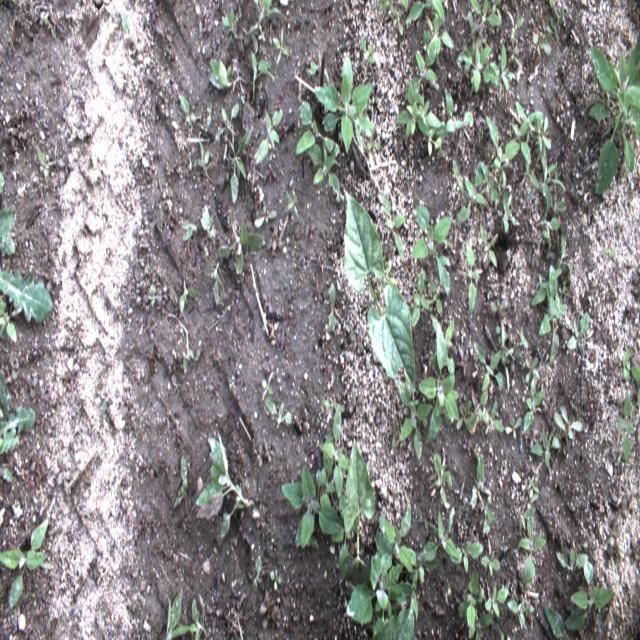crop: (343, 188, 415, 392), (340, 437, 376, 587), (370, 597, 414, 639)
weed: (582, 39, 640, 196), (345, 512, 415, 640), (0, 171, 53, 324), (196, 431, 253, 540), (314, 56, 374, 154), (418, 320, 458, 446), (281, 464, 341, 548), (0, 517, 48, 609), (410, 204, 452, 297), (530, 264, 567, 366), (564, 557, 614, 629), (395, 377, 432, 463), (0, 370, 36, 454), (296, 100, 339, 166), (379, 502, 416, 578), (394, 79, 441, 138), (214, 219, 263, 274), (322, 404, 350, 500), (486, 115, 520, 191), (241, 0, 288, 53), (416, 506, 460, 562), (456, 41, 499, 97), (432, 88, 473, 146), (539, 137, 566, 223), (404, 32, 438, 100), (165, 583, 203, 640), (455, 161, 487, 228), (471, 452, 497, 534), (378, 192, 406, 266), (303, 142, 341, 195), (518, 515, 546, 585), (228, 124, 252, 205), (423, 5, 454, 65), (254, 108, 284, 165), (473, 339, 505, 392), (330, 494, 350, 578), (489, 43, 517, 99), (430, 314, 454, 378), (459, 568, 483, 632), (321, 431, 338, 517), (209, 58, 249, 94), (193, 128, 217, 186), (250, 51, 274, 105), (618, 392, 636, 464), (524, 372, 544, 434), (529, 430, 560, 468), (465, 240, 480, 316), (0, 293, 23, 342), (505, 121, 531, 163), (450, 541, 484, 573), (433, 451, 452, 508), (216, 102, 240, 147), (515, 100, 543, 138), (173, 454, 189, 520), (553, 405, 582, 441), (505, 595, 535, 629), (466, 385, 488, 431), (204, 259, 225, 307), (404, 0, 444, 25), (412, 270, 429, 328), (555, 547, 589, 575), (179, 276, 201, 318), (480, 220, 498, 271), (566, 311, 590, 349), (532, 22, 552, 63), (543, 605, 567, 639), (534, 110, 551, 156), (501, 189, 519, 232), (469, 0, 501, 24), (484, 586, 508, 618), (481, 160, 499, 202), (201, 203, 216, 253), (545, 0, 563, 40), (483, 400, 503, 436), (558, 233, 572, 284), (222, 7, 244, 39), (272, 26, 290, 65), (264, 399, 292, 424), (467, 613, 493, 639), (479, 548, 500, 579), (179, 94, 196, 130), (425, 123, 442, 157), (456, 399, 471, 432), (388, 1, 402, 36), (630, 364, 640, 413), (254, 206, 277, 227), (617, 347, 631, 381), (36, 147, 50, 180), (360, 35, 374, 68), (452, 159, 463, 198), (430, 280, 442, 313), (328, 281, 335, 333), (506, 416, 521, 439), (376, 0, 408, 10), (490, 0, 502, 25), (322, 400, 345, 412)
